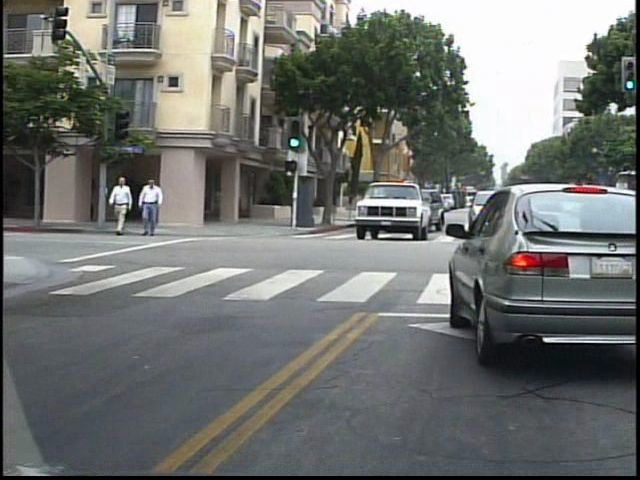person: (114, 172, 143, 242), (144, 174, 173, 241)
